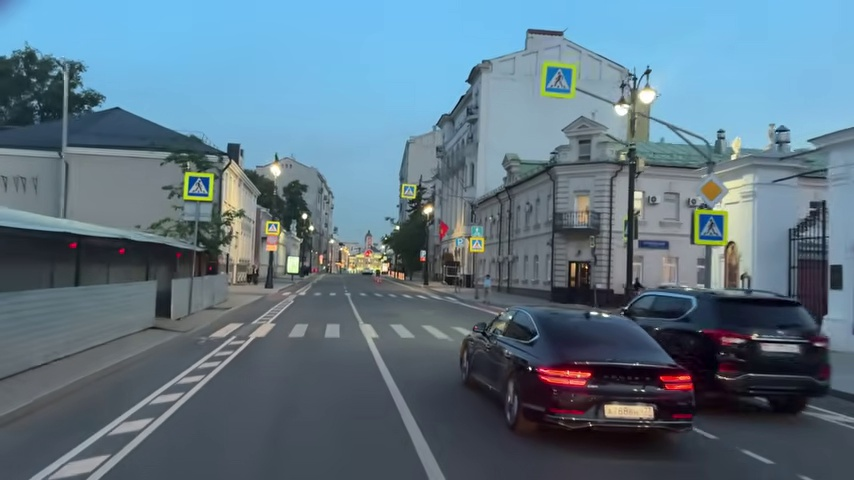acesa: (268, 162, 284, 179)
